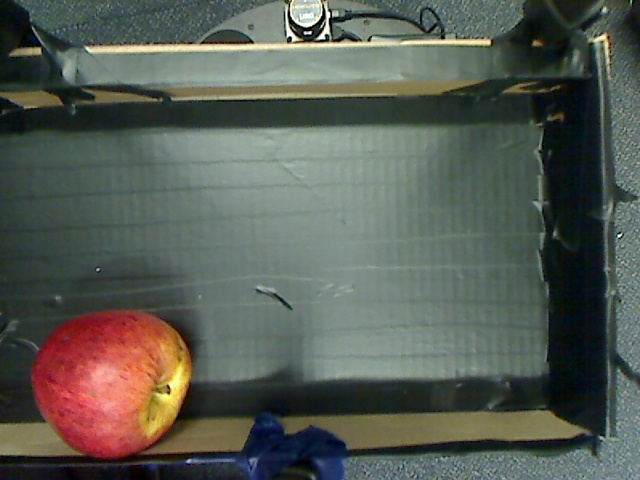apple: (25, 298, 205, 466)
